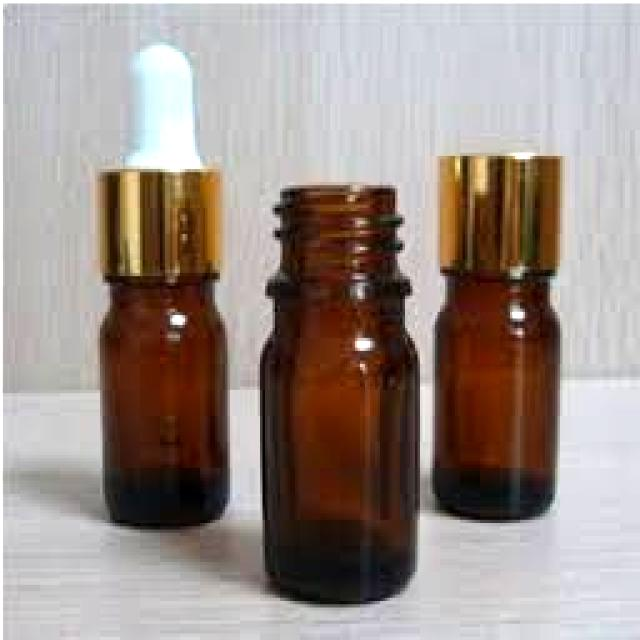Glass: (88, 42, 233, 538), (255, 182, 423, 606), (432, 148, 560, 525)
Metal: (434, 147, 562, 274)
